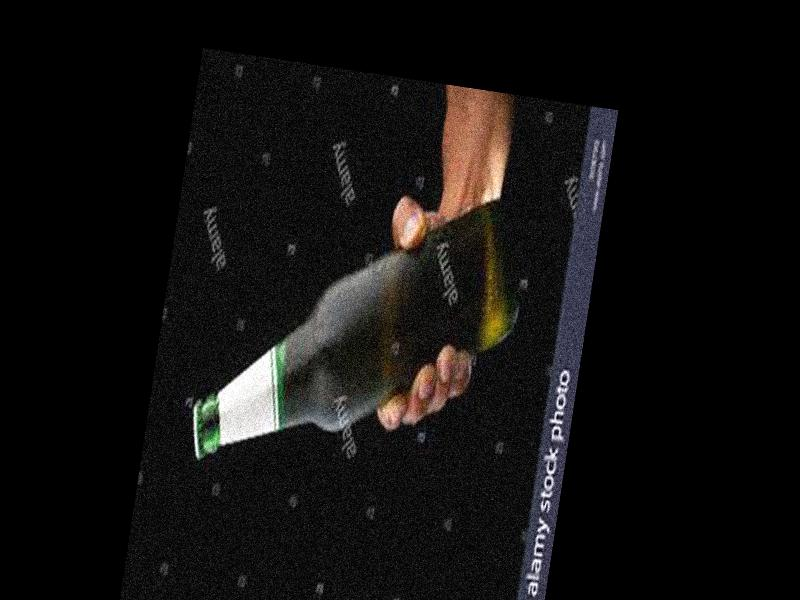Beer: (184, 159, 537, 506)
